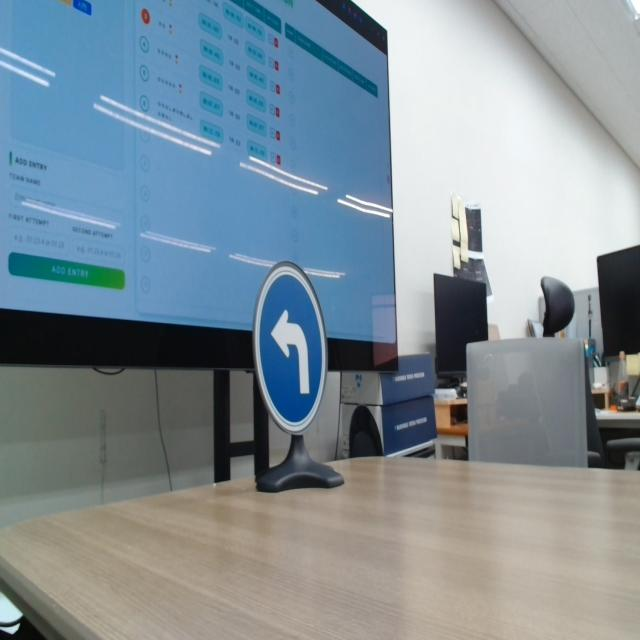left_direction: (250, 258, 341, 446)
